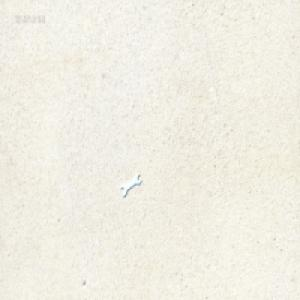Wrench: (120, 172, 141, 198)
